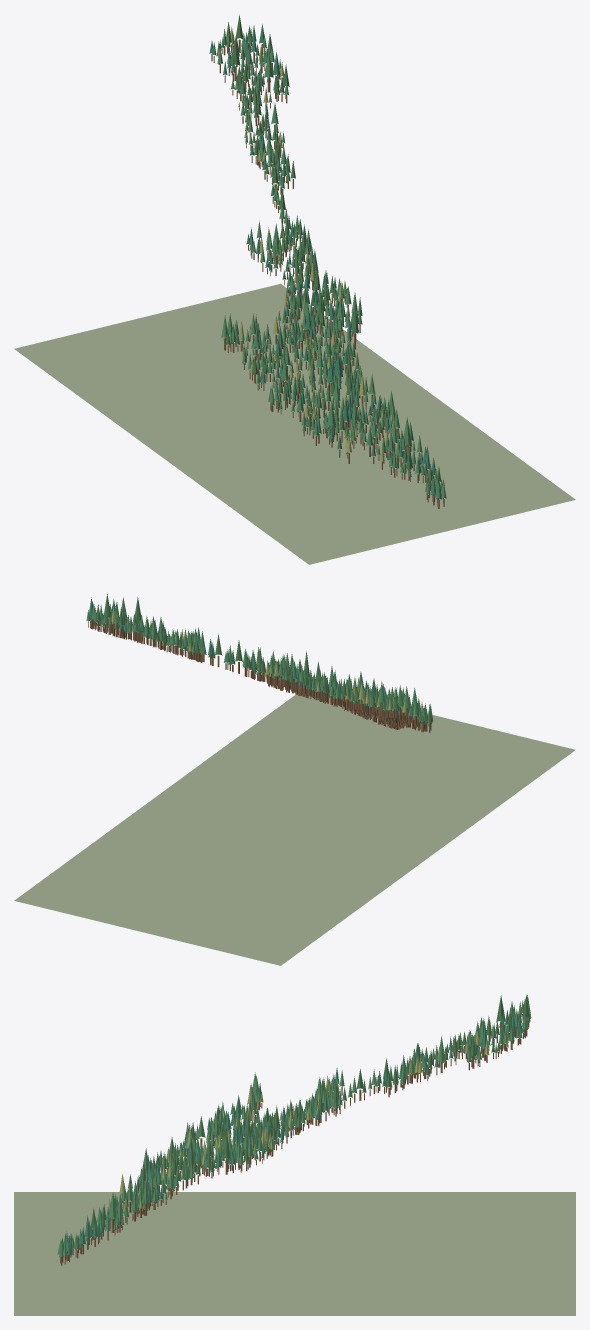
3 renders of one model, top to bottom at view 1: azimuth 30°, elevation 25°; view 2: azimuth 150°, elevation 25°; view 3: azimuth 270°, elevation 25°, orthographic. The views are drawn at different scales.
Parts seen in each view (by area): view 1: ground; view 2: ground; view 3: ground.
Part boxes in pixels (bbox=[...]): ground: bbox=[14, 283, 575, 564]; ground: bbox=[14, 693, 575, 965]; ground: bbox=[14, 1192, 575, 1315].
Size of the model in its own units: 486 by 531 by 932.
